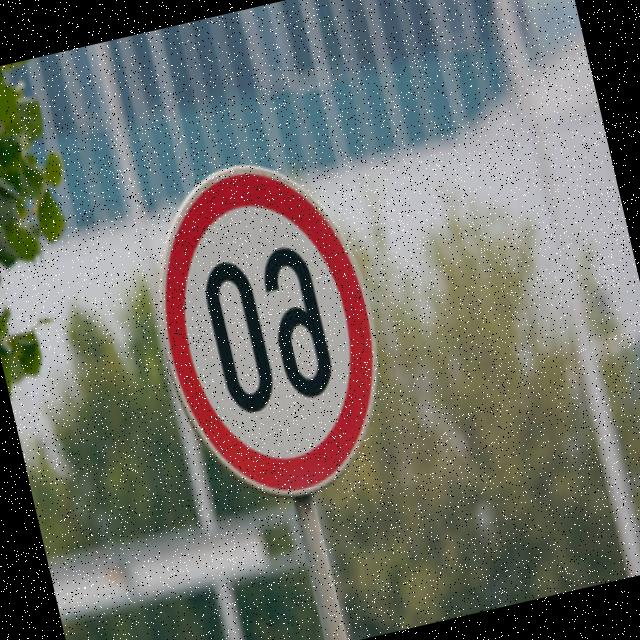speed_limit_60: (124, 129, 411, 519)
